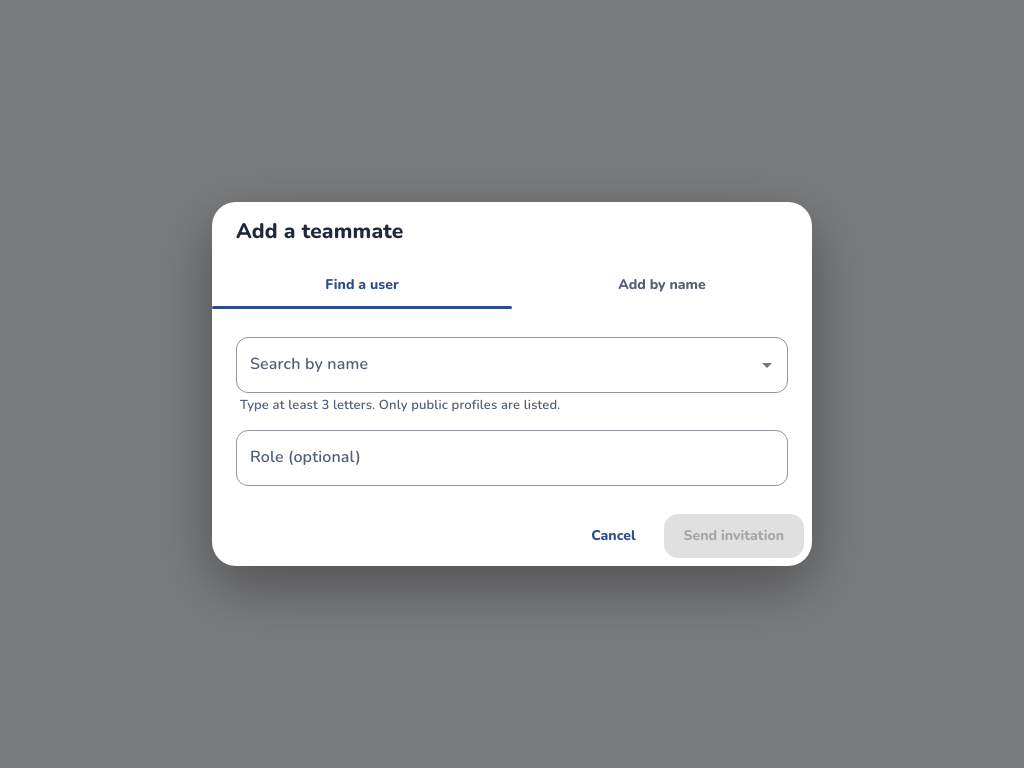
it: finding a user › keeps the form and shows the reason when the invitation is refused
Step 1. Type "Ani" into the dropdown labelled "Search by name" → coordinates (497, 365), box [245,346,749,384]
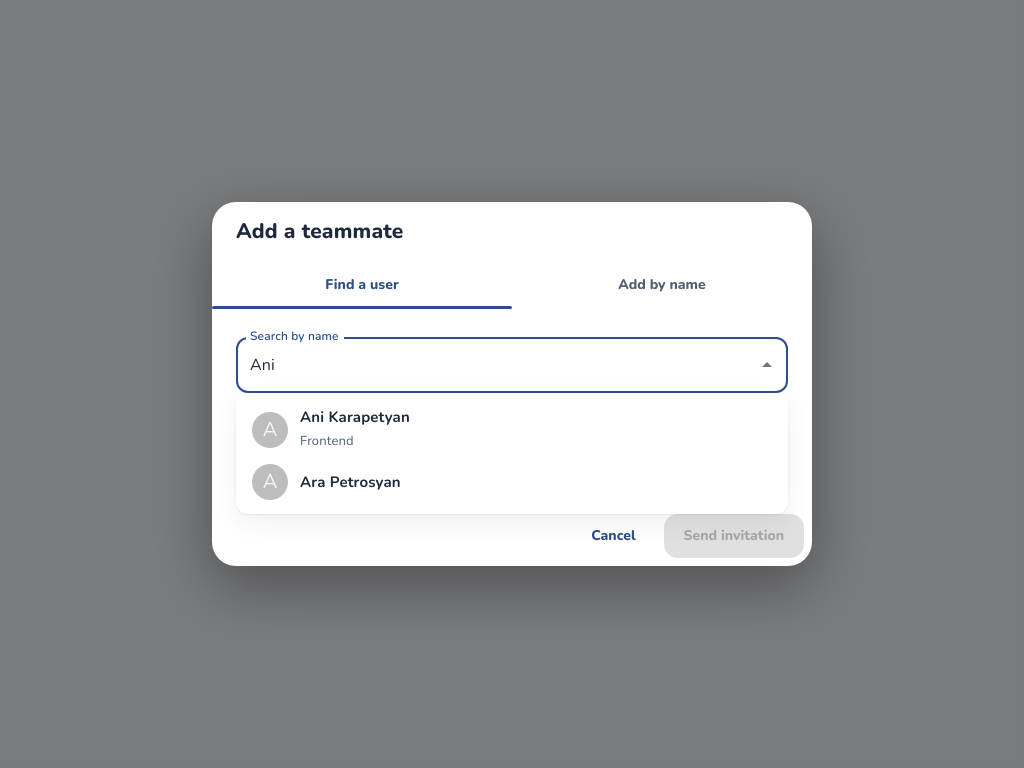
Step 2. Click the option "A Ani Karapetyan Frontend" → coordinates (331, 428), box [252,407,410,450]
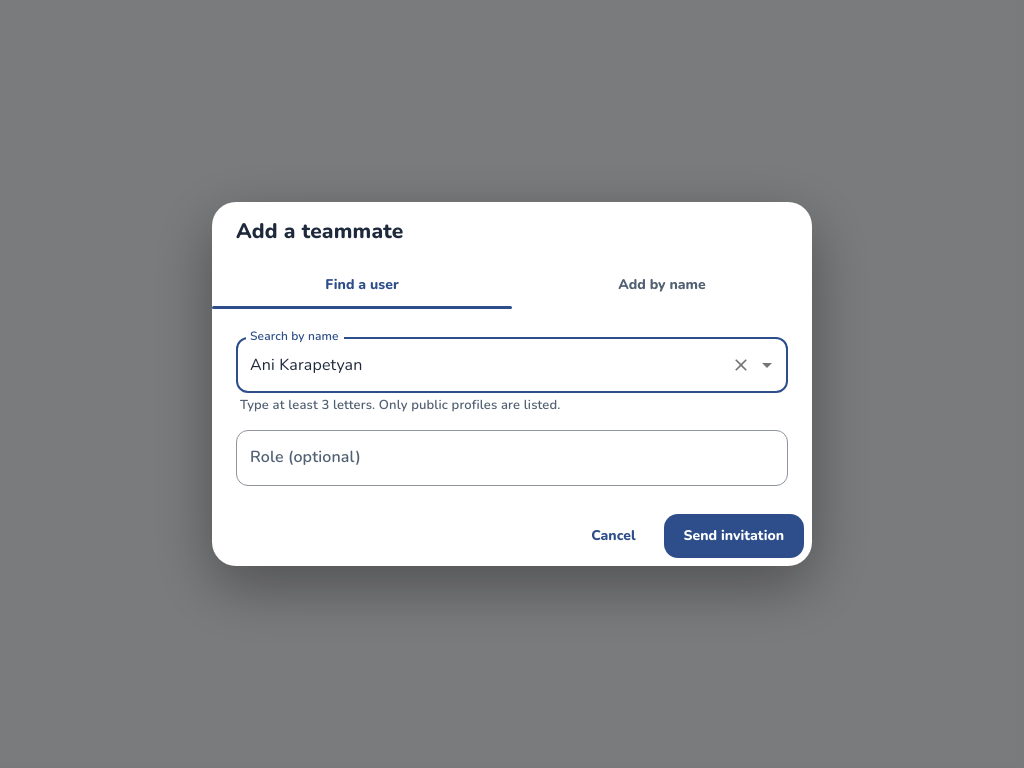
Step 3. Click the button "Send invitation" → coordinates (734, 536), box [664,514,804,558]
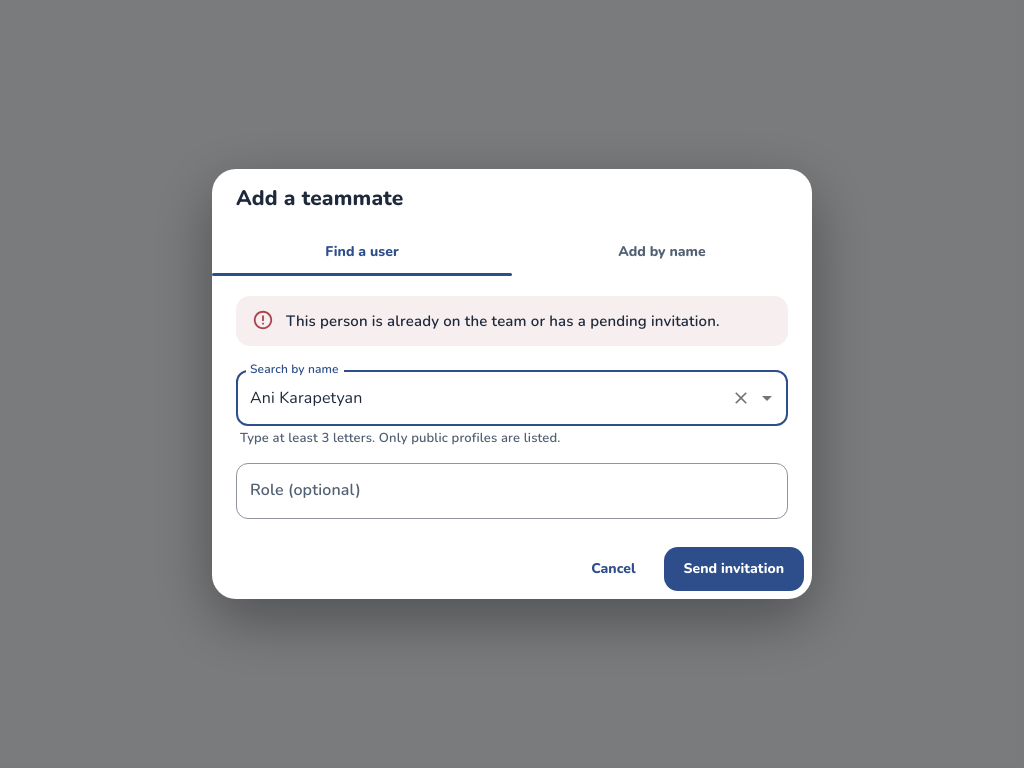
Check: the dropdown labelled "Search by name" holds "Ani Karapetyan", box [245,379,723,417]
Check: the message shows "already on the team", box [286,311,720,331]
